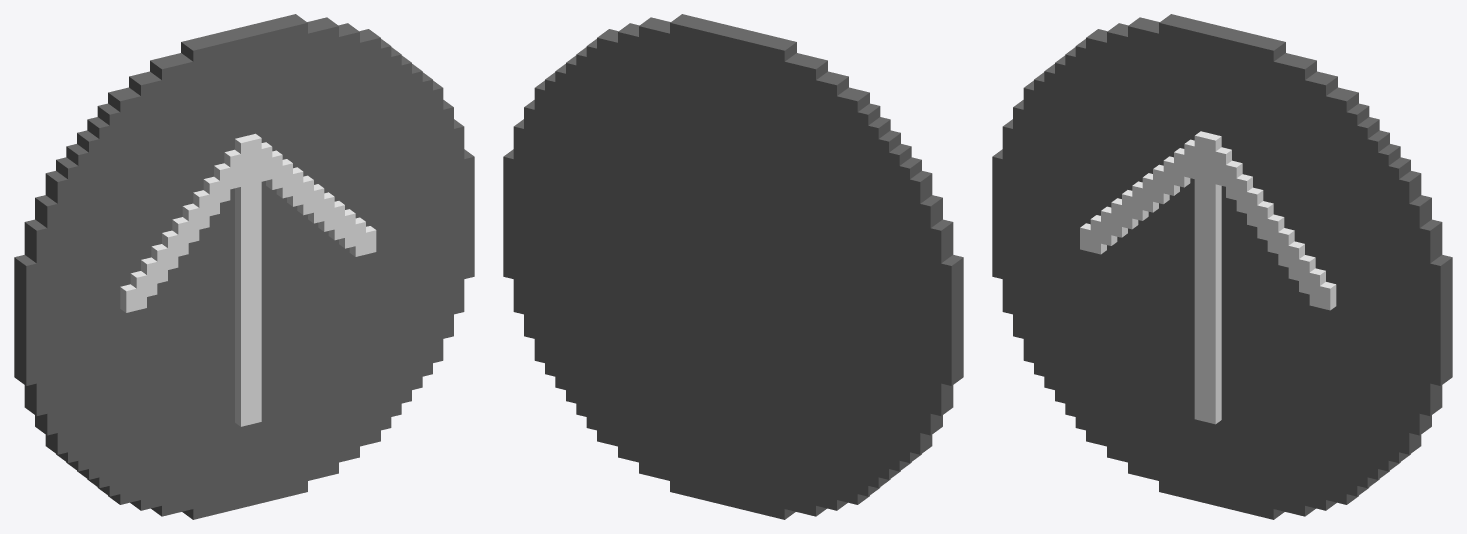
The model's file is next_button.glb.
3 views of the same model, side by side, from view 1: azimuth 30°, elevation 25°; view 2: azimuth 150°, elevation 25°; view 3: azimuth 330°, elevation 25° (orthographic).
Parts seen in each view (by area): view 1: box_66; view 2: box_66; view 3: box_66.
Boxes of the visible parts, x1,y1,x2,y2 form: box_66: [14, 14, 474, 519]; box_66: [503, 14, 963, 519]; box_66: [992, 14, 1452, 519].
Bounding box in the file's own units: 4.3 × 4.3 × 0.3.
Materials: 1 (1 with a texture image).
